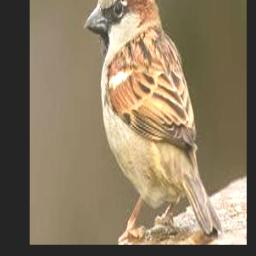Sparrow: (83, 0, 222, 240)
